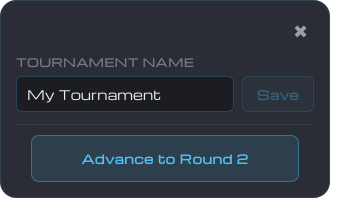
Test case: BracketSettings › enables Save button after the name is changed
Replace the text in the field showing "My Tournament" with "New Name" at (125, 94), box [16,76,234,112]
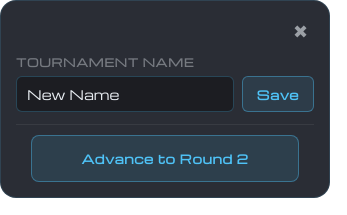
Expected: the button "Save" is enabled, [242,76,314,112]
